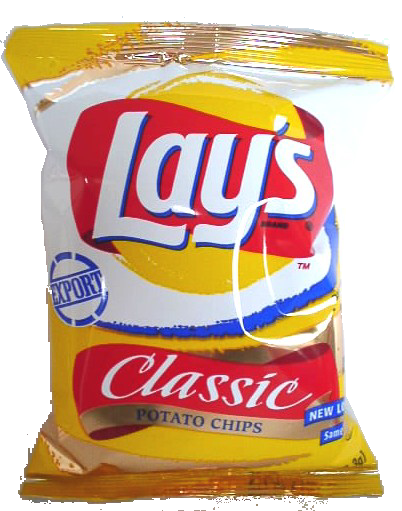grozi_51: (1, 22, 395, 504)
